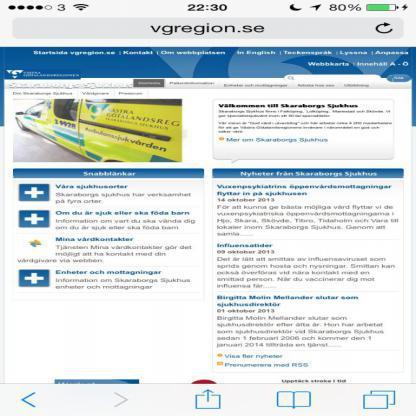Ambulance - v1 Ambulance last generate: (17, 98, 181, 162)
